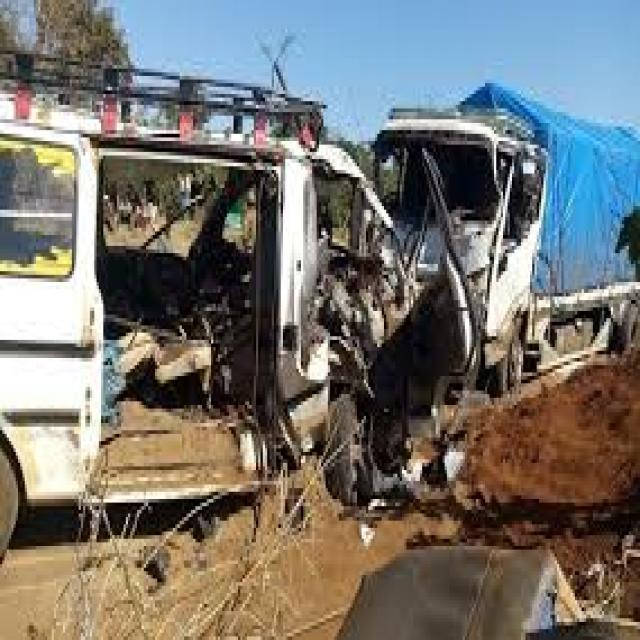accident: (111, 39, 574, 511)
